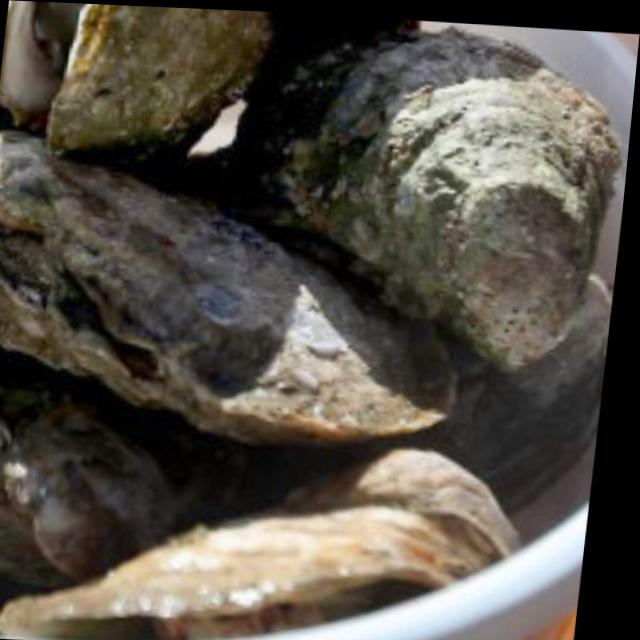Oyster-Indeterminate: (0, 131, 460, 438), (301, 28, 619, 363), (0, 455, 523, 640), (0, 345, 243, 583), (403, 275, 609, 516), (227, 12, 417, 204)
Oyster-Open: (0, 0, 274, 160)
